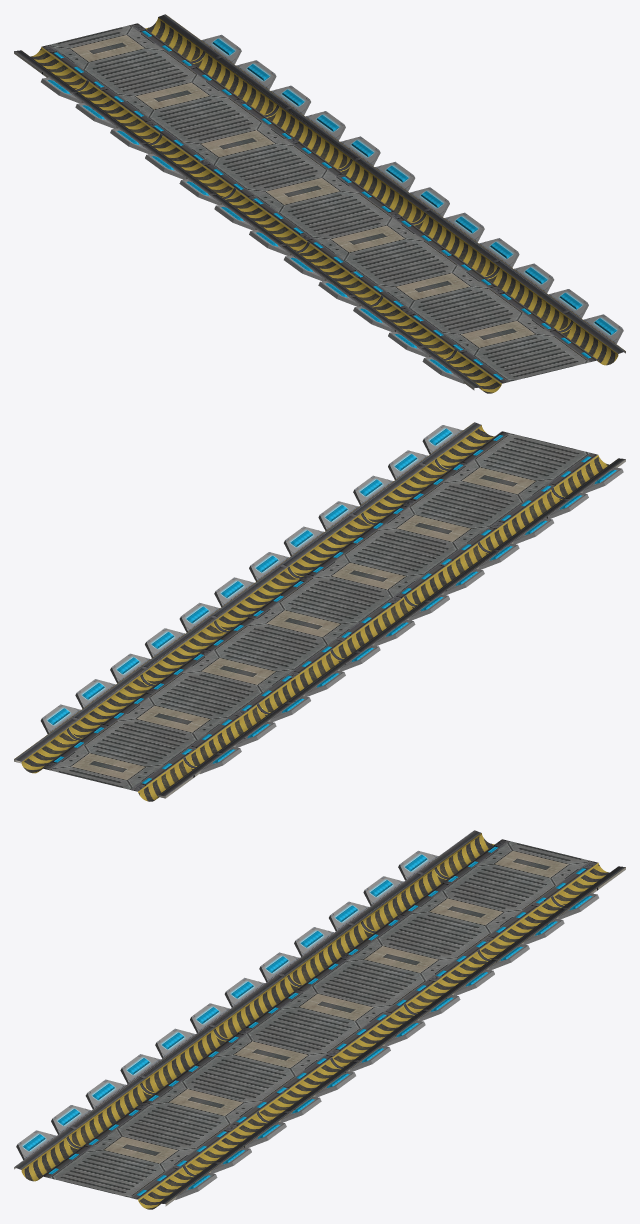
File: floor_.fbx
3 views of the same model, one above another, from view 1: azimuth 30°, elevation 25°; view 2: azimuth 150°, elevation 25°; view 3: azimuth 330°, elevation 25° (orthographic).
Visible parts, largest first — view 1: floor; view 2: floor; view 3: floor.
Part boxes in pixels (x1,y1,x2,y2): floor: (14,14,625,393); floor: (14,422,625,801); floor: (14,830,625,1209).
Size of the model in its own units: 40.02 by 3.44 by 175.
Materials: 5 (5 with a texture image).
